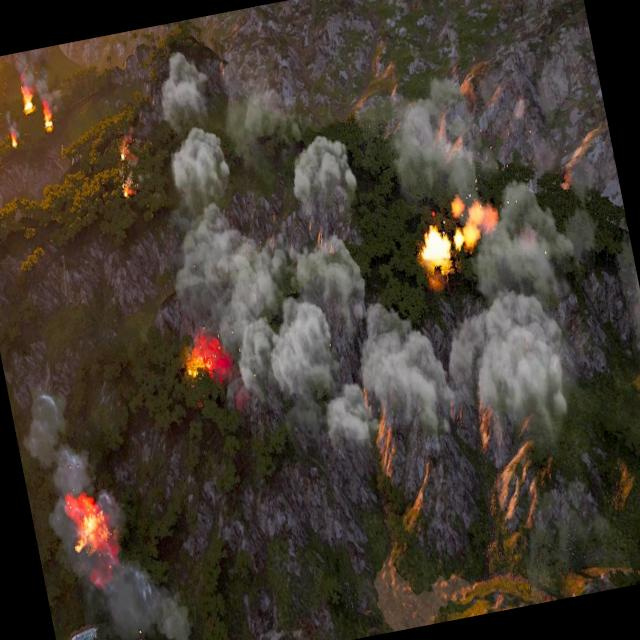fire: (446, 187, 504, 254), (62, 488, 114, 562), (181, 332, 231, 384), (416, 223, 456, 270), (118, 134, 136, 162), (20, 87, 36, 113), (42, 104, 56, 130), (120, 180, 134, 198), (118, 142, 128, 162), (9, 132, 18, 148), (12, 132, 20, 147)
smoke: (126, 0, 615, 481), (8, 362, 192, 640), (18, 57, 63, 117), (4, 110, 17, 138)
